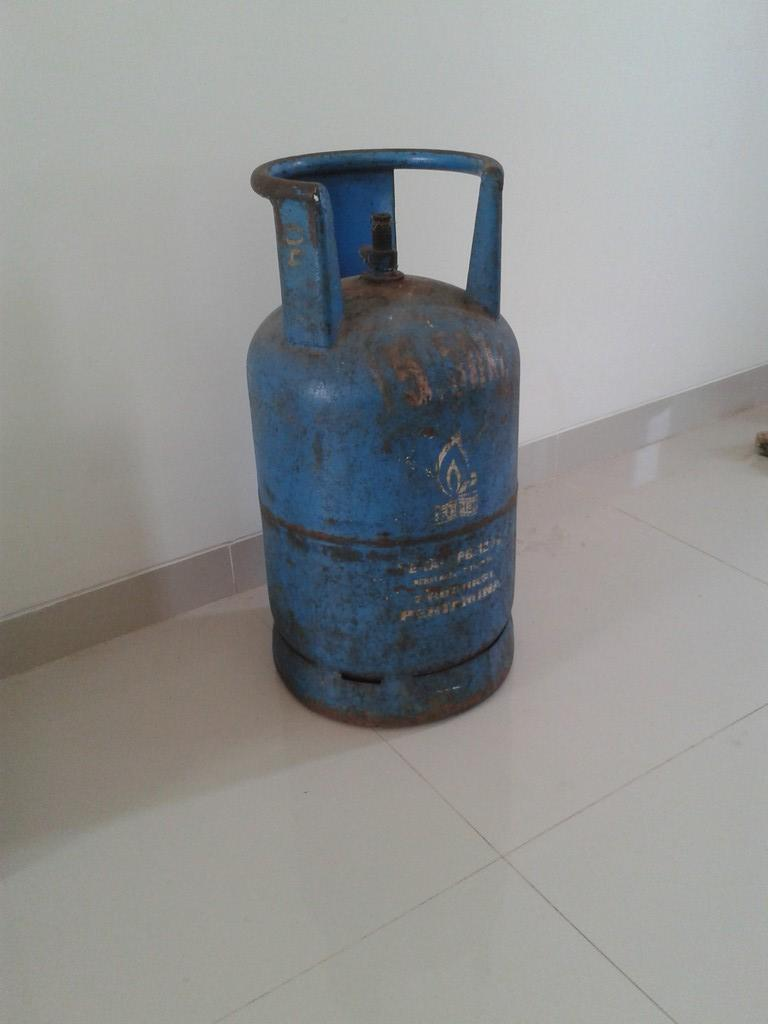blue_gas: (244, 149, 523, 732)
